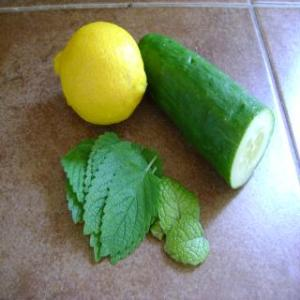cucumber: (138, 30, 276, 194)
